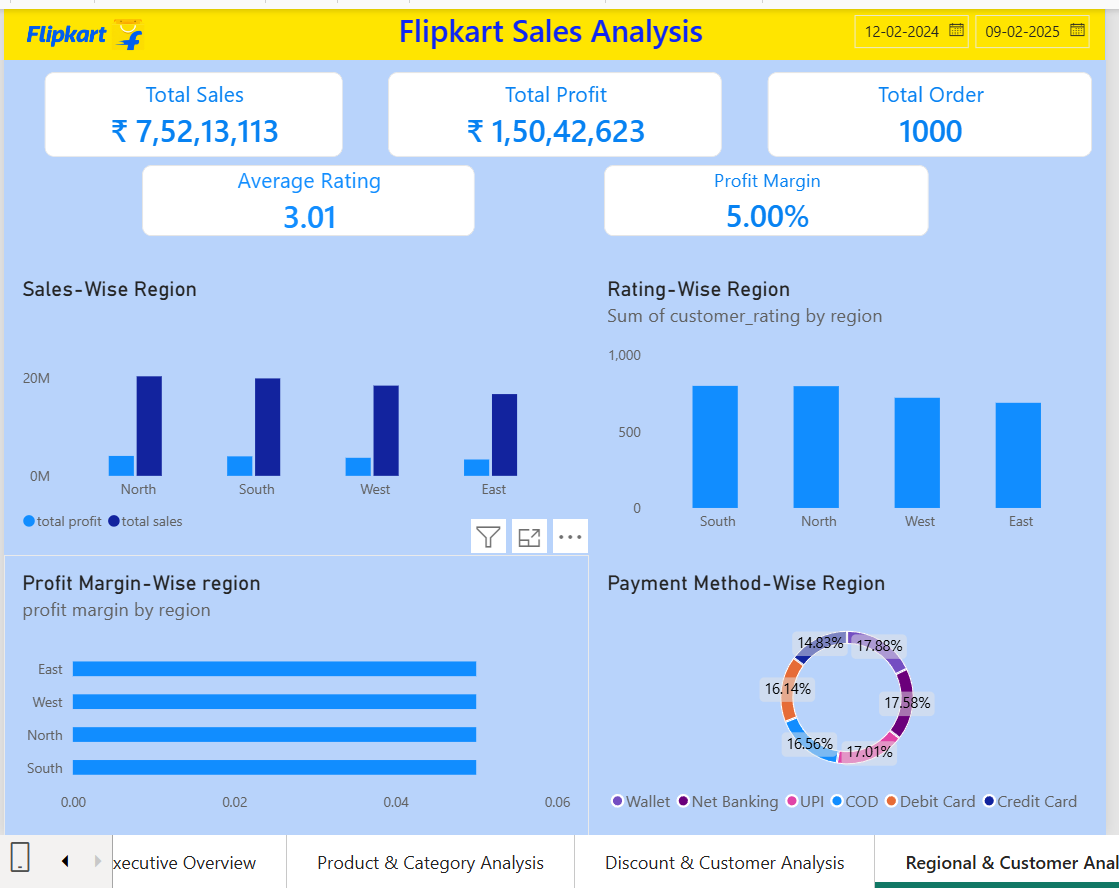

What the dashboard file says about the page in this screenshot:
{"tool":"powerbi","page":{"name":"Regional & Customer Analysis","canvas":[960,720],"ordinal":3},"visuals":[{"type":"shape","box":[0,0,959.7,44.5],"z":0},{"type":"textbox","box":[344.2,-0.5,291.6,44.5],"z":1000},{"type":"image","box":[0.3,-0.5,143.8,44.5],"z":2000},{"type":"slicer","fields":{"Values":["public flipkart.order_date"]},"box":[733.8,-0.5,226.2,44.5],"z":3000},{"type":"cardVisual","fields":{"Data":["public flipkart.total sales"]},"box":[35.3,54.9,260.2,74.5],"z":4000},{"type":"cardVisual","fields":{"Data":["public flipkart.total profit"]},"box":[334.7,54.9,291.6,74.5],"z":5000},{"type":"cardVisual","fields":{"Data":["public flipkart.total order"]},"box":[665.5,54.9,283.7,74.5],"z":6000},{"type":"cardVisual","fields":{"Data":["public flipkart.profit margin"]},"box":[523,136,283.7,62.8],"z":7000},{"type":"cardVisual","fields":{"Data":["public flipkart.Average Rating"]},"box":[120.3,136,290.3,62.8],"z":8000},{"type":"clusteredColumnChart","title":"Sales-Wise Region","fields":{"Category":["public flipkart.region"],"Y":["public flipkart.total profit","public flipkart.total sales"]},"box":[0,219.7,509.9,256.3],"z":9000},{"type":"barChart","title":"Profit Margin-Wise region ","fields":{"Category":["public flipkart.region"],"Y":["public flipkart.profit margin"]},"box":[0,475.9,509.9,244.5],"z":10000},{"type":"clusteredColumnChart","title":"Rating-Wise Region ","fields":{"Category":["public flipkart.region"],"Y":["Sum(public flipkart.customer_rating)"]},"box":[509.9,219.7,449.8,256.3],"z":11000},{"type":"donutChart","title":"Payment Method-Wise Region ","fields":{"Category":["public flipkart.payment_method"],"Y":["public flipkart.total sales"]},"box":[509.9,475.9,449.8,244.5],"z":12000}]}

Visuals, with their boxes on the page's 960x720 design canvas (x1, y1, x2, y2). These are canvas units, not pixel positions in the 1119x888 screenshot, which may show the page scaled, cropped or inside an application window:
shape: [0, 0, 960, 44]
textbox: [344, 0, 636, 44]
image: [0, 0, 144, 44]
slicer - public flipkart.order_date: [734, 0, 960, 44]
cardVisual - public flipkart.total sales: [35, 55, 296, 129]
cardVisual - public flipkart.total profit: [335, 55, 626, 129]
cardVisual - public flipkart.total order: [666, 55, 949, 129]
cardVisual - public flipkart.profit margin: [523, 136, 807, 199]
cardVisual - public flipkart.Average Rating: [120, 136, 411, 199]
"Sales-Wise Region" clusteredColumnChart: [0, 220, 510, 476]
"Profit Margin-Wise region " barChart: [0, 476, 510, 720]
"Rating-Wise Region " clusteredColumnChart: [510, 220, 960, 476]
"Payment Method-Wise Region " donutChart: [510, 476, 960, 720]
